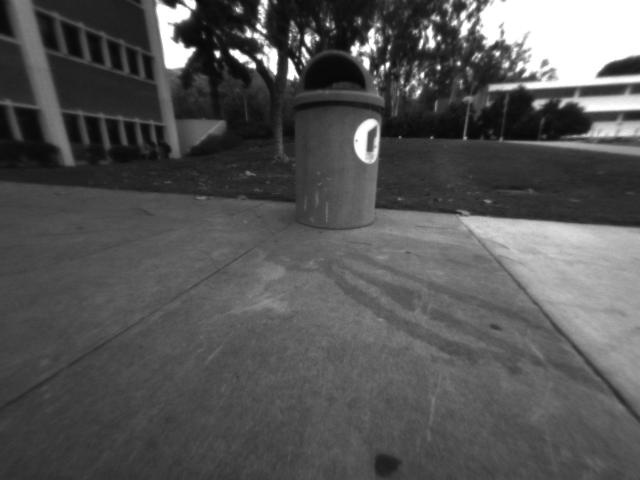trashcan: (293, 49, 384, 234)
